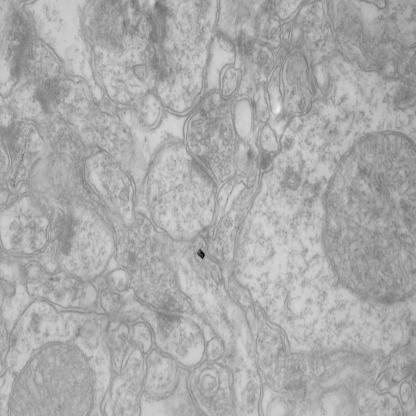mitochondria: (319, 126, 416, 308), (5, 338, 98, 416)
